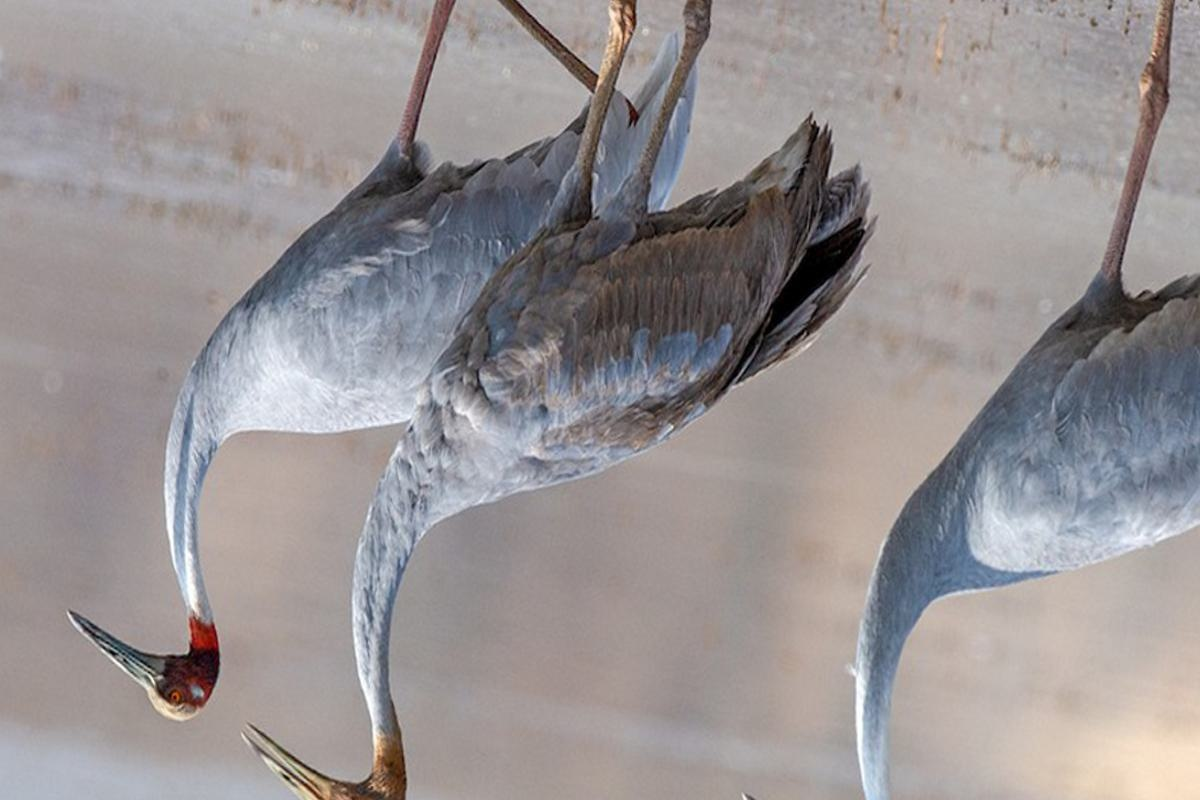crane: (248, 1, 861, 794), (65, 1, 641, 734), (855, 12, 1200, 800)
